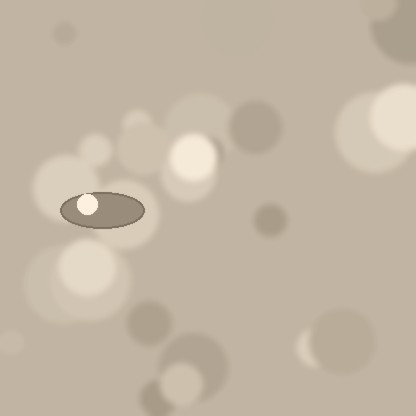gota: (60, 193, 144, 231)
